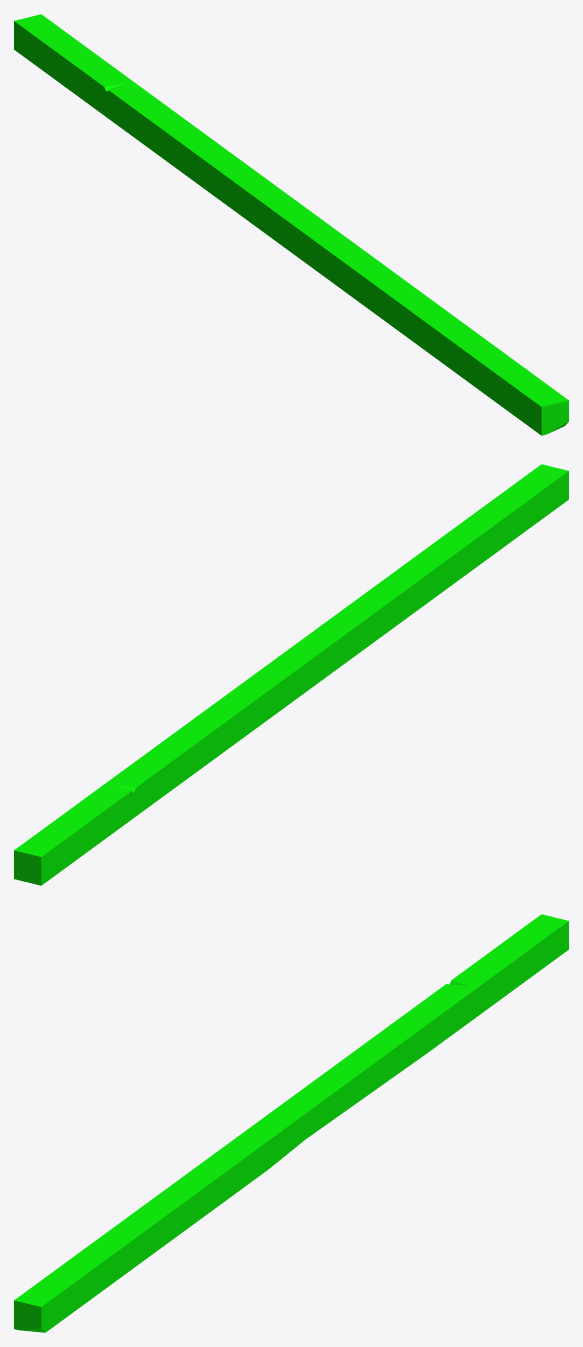
Rendered from SM_Bar_Metal_Cold.fbx.
3 renders of one model, top to bottom at view 1: azimuth 30°, elevation 25°; view 2: azimuth 150°, elevation 25°; view 3: azimuth 330°, elevation 25°, orthographic.
Parts seen in each view (by area): view 1: bar-metal-cold; view 2: bar-metal-cold; view 3: bar-metal-cold.
Part boxes in pixels (x1,y1,x2,y2): bar-metal-cold: [14, 14, 568, 435]; bar-metal-cold: [14, 464, 568, 885]; bar-metal-cold: [14, 914, 568, 1332].
Size of the model in its own units: 0.03 by 0.03 by 1.
